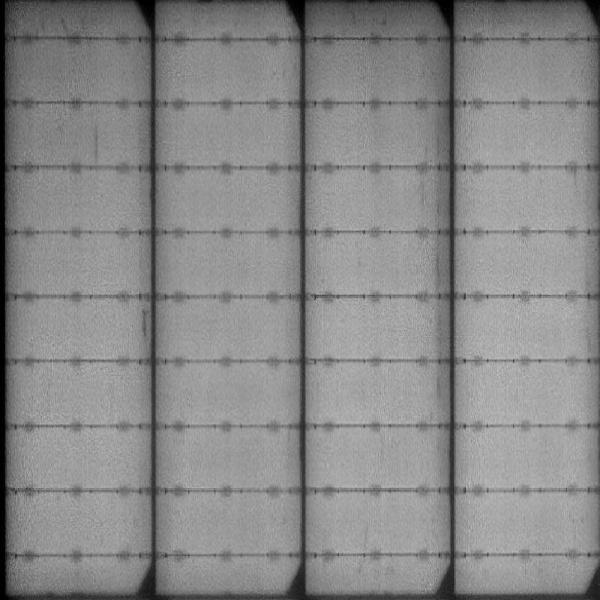scratch: (20, 16, 82, 33), (87, 122, 103, 168), (139, 306, 148, 351)
